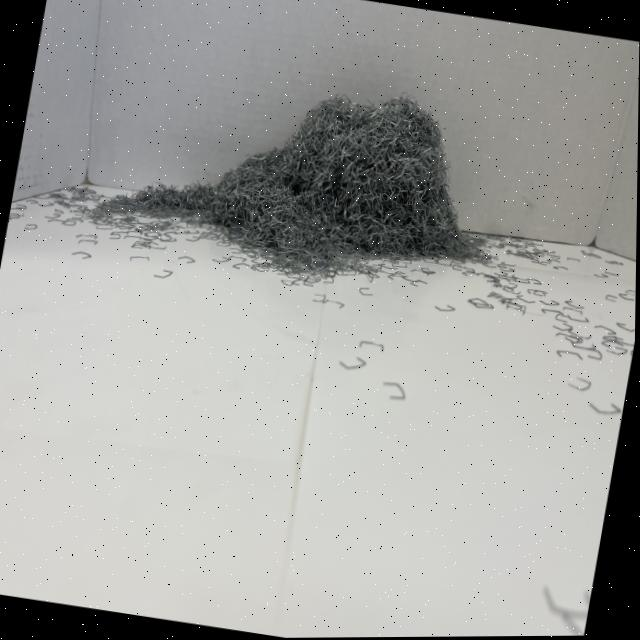staples: (113, 49, 498, 289)
